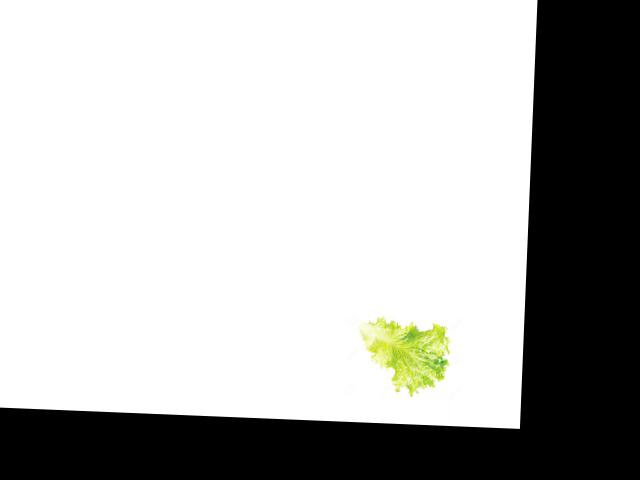lettuce: (354, 320, 451, 396)
